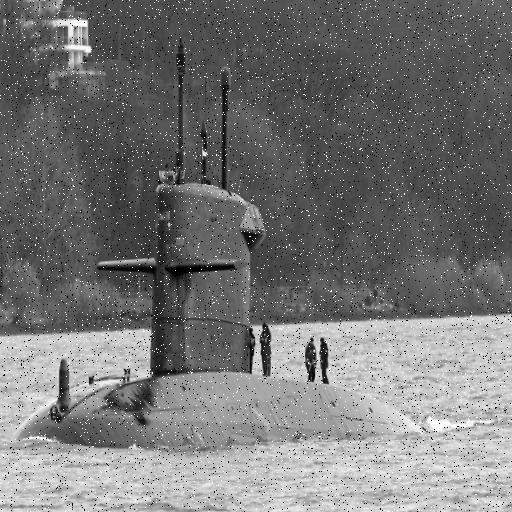submarine: (15, 36, 448, 444)
